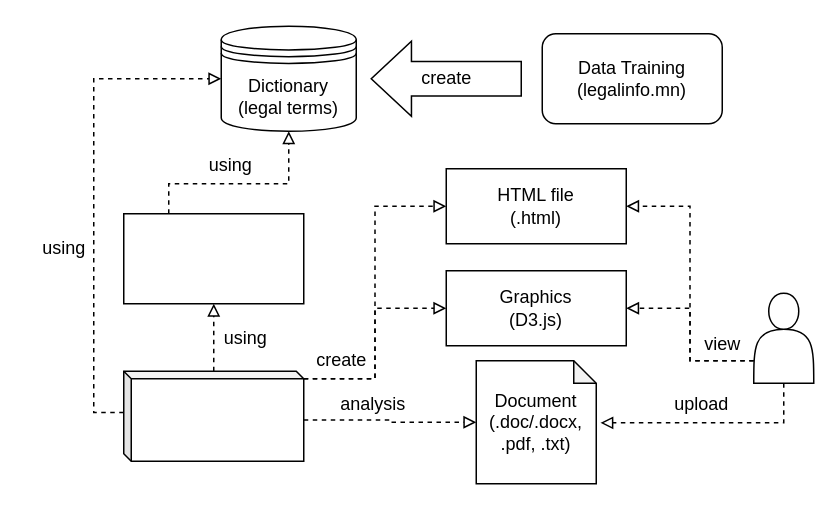
The diagram is 840 pixels wide and 510 high, and some of its shapes have lost their labels. Here are the shapes that lost their labels. From the top down, the centre of each, then its label:
the point at 213,258: Legal term detection algorithm implementation
the point at 783,337: user
the point at 213,415: DAS website
